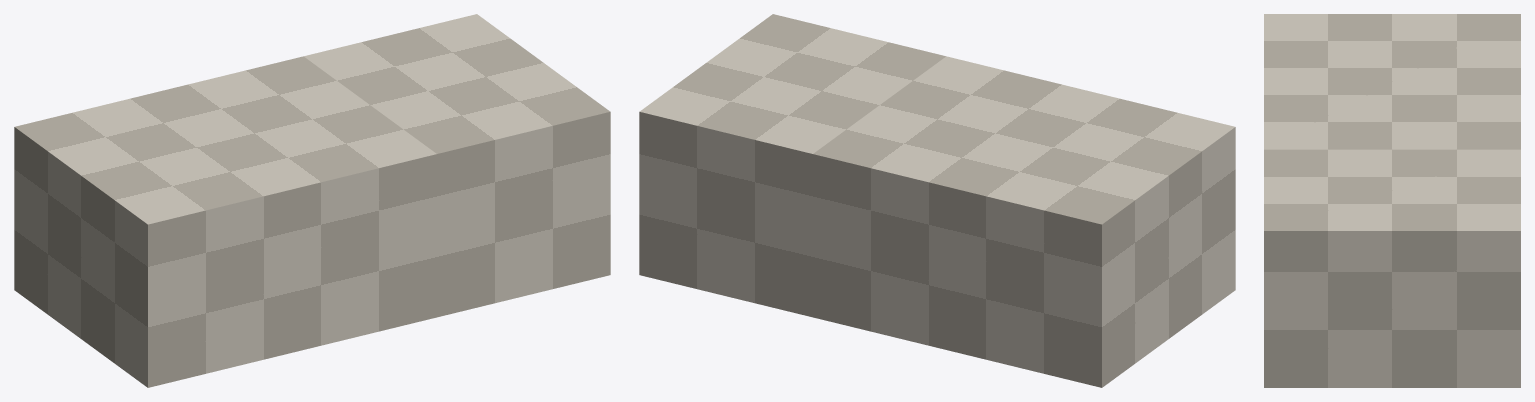
3 renders of one model, left to right at view 1: azimuth 30°, elevation 25°; view 2: azimuth 150°, elevation 25°; view 3: azimuth 270°, elevation 25°, orthographic. The views are drawn at different scales.
Parts seen in each view (by area): view 1: Floor 1; view 2: Floor 1; view 3: Floor 1.
Part boxes in pixels (box(x1,y1,x2,y2)): Floor 1: box(14, 14, 610, 387); Floor 1: box(639, 14, 1235, 387); Floor 1: box(1264, 14, 1520, 387).
Size of the model in its own units: 8 by 2.7 by 4.
Materials: 1 (1 with a texture image).
